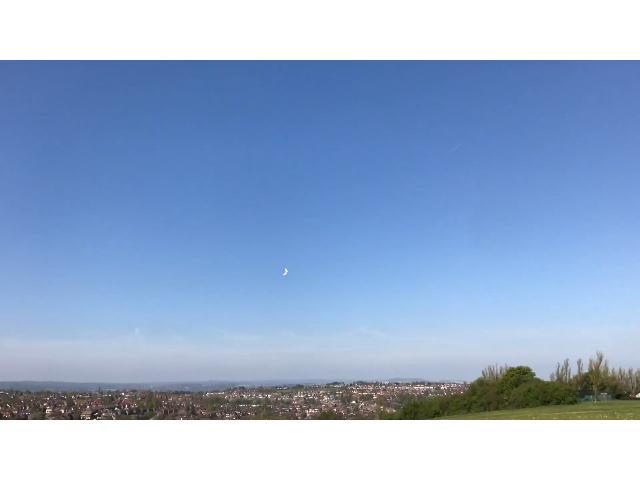Anti-Drone: (275, 265, 297, 284)
